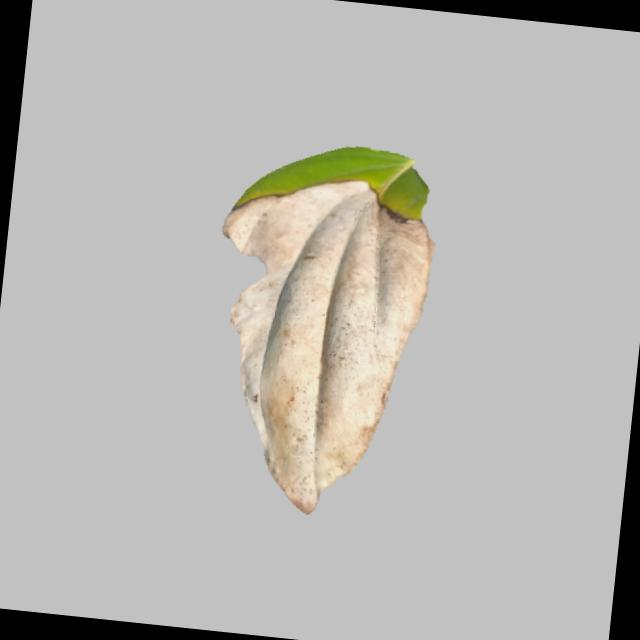leaf-blight: (191, 134, 454, 521)
